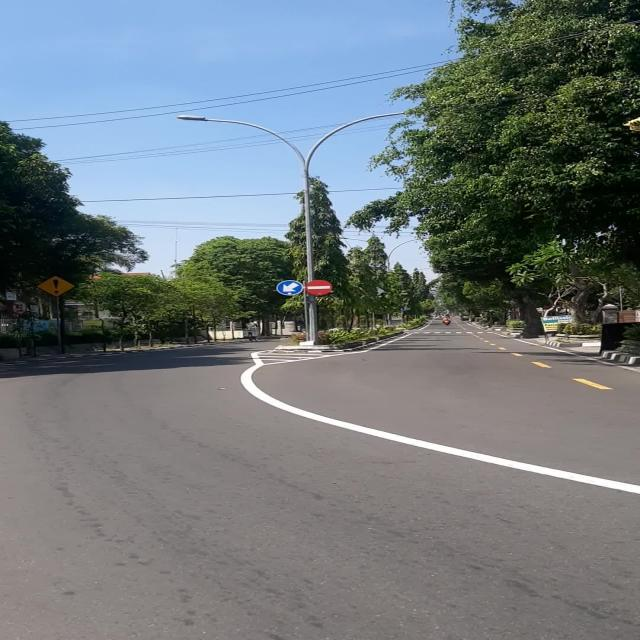Dilarang Masuk: (306, 280, 332, 295)
Lajur Kiri: (276, 280, 304, 296)
